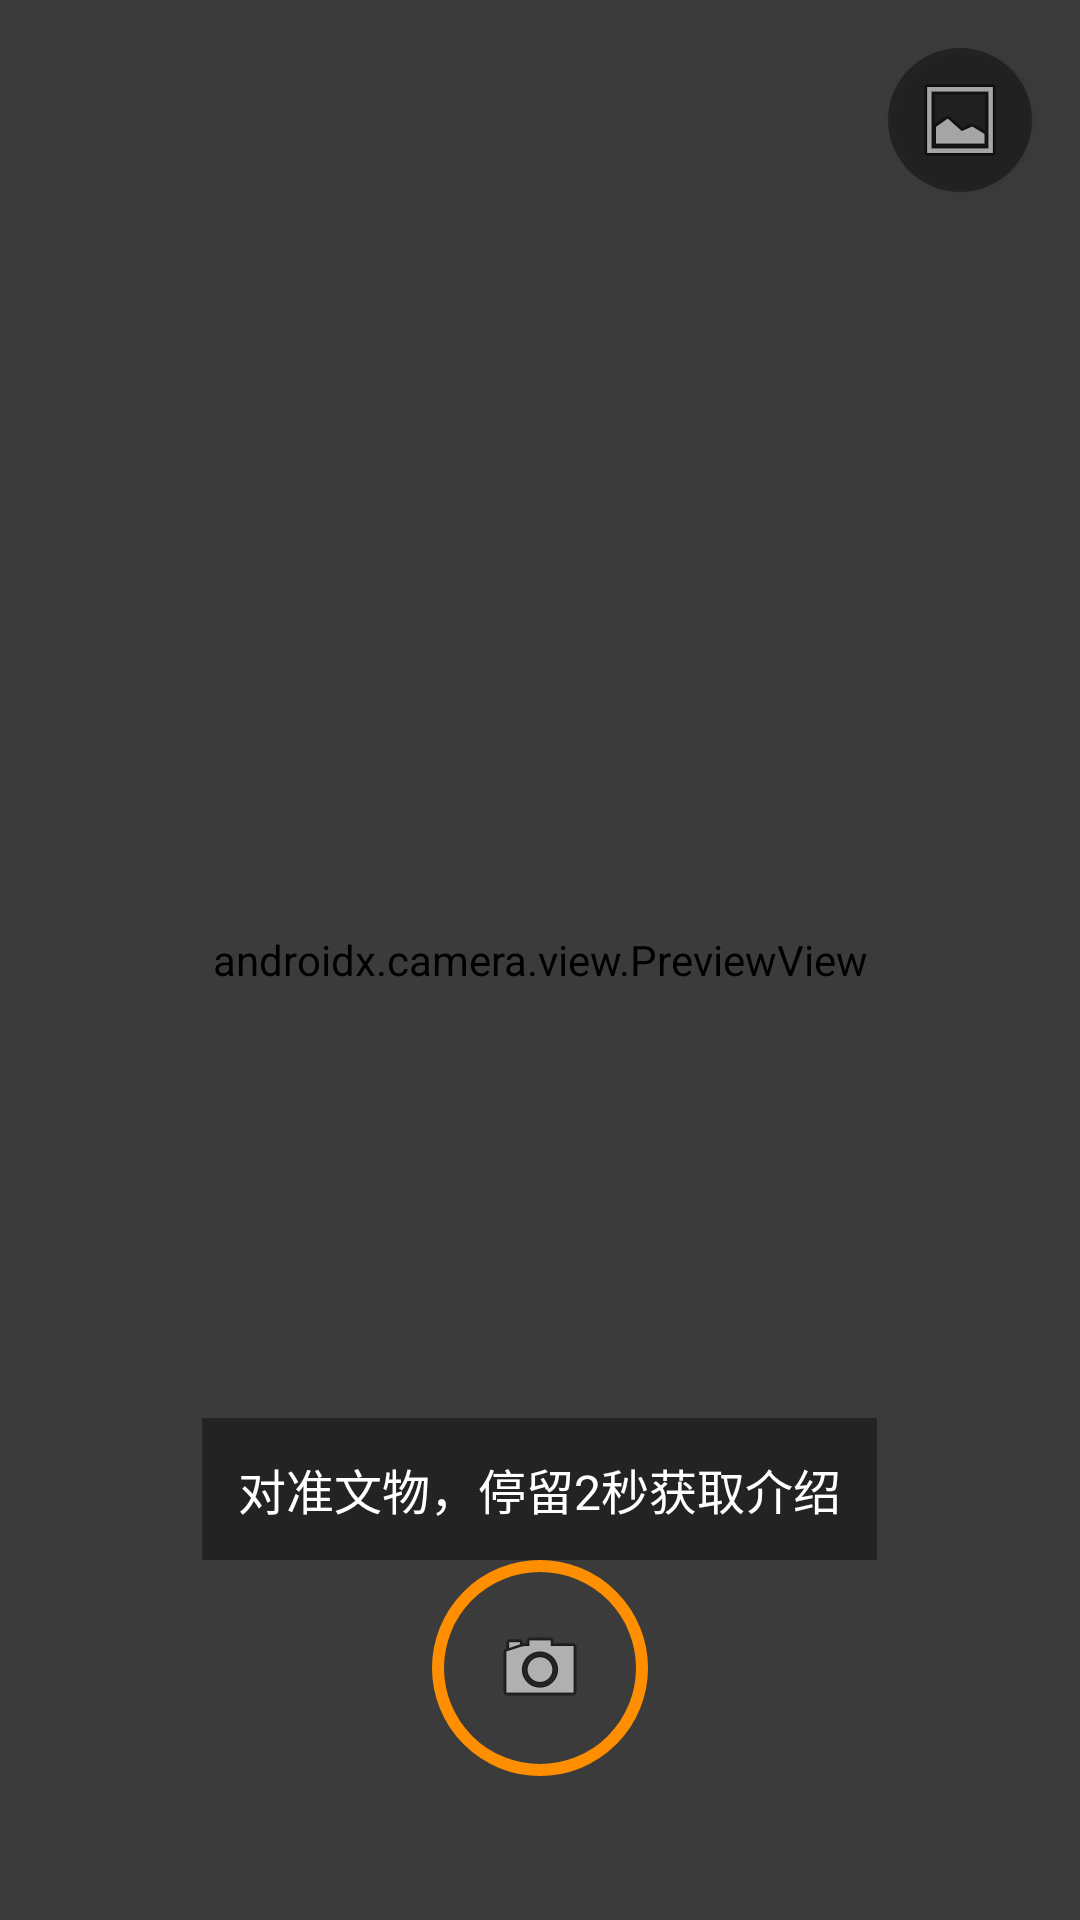

Named icons in this screenshot (1080px x 1920px) and their centers, (x=x, y=y):
从相册选择图片: (x=960, y=119)
拍照识别: (x=540, y=1668)
